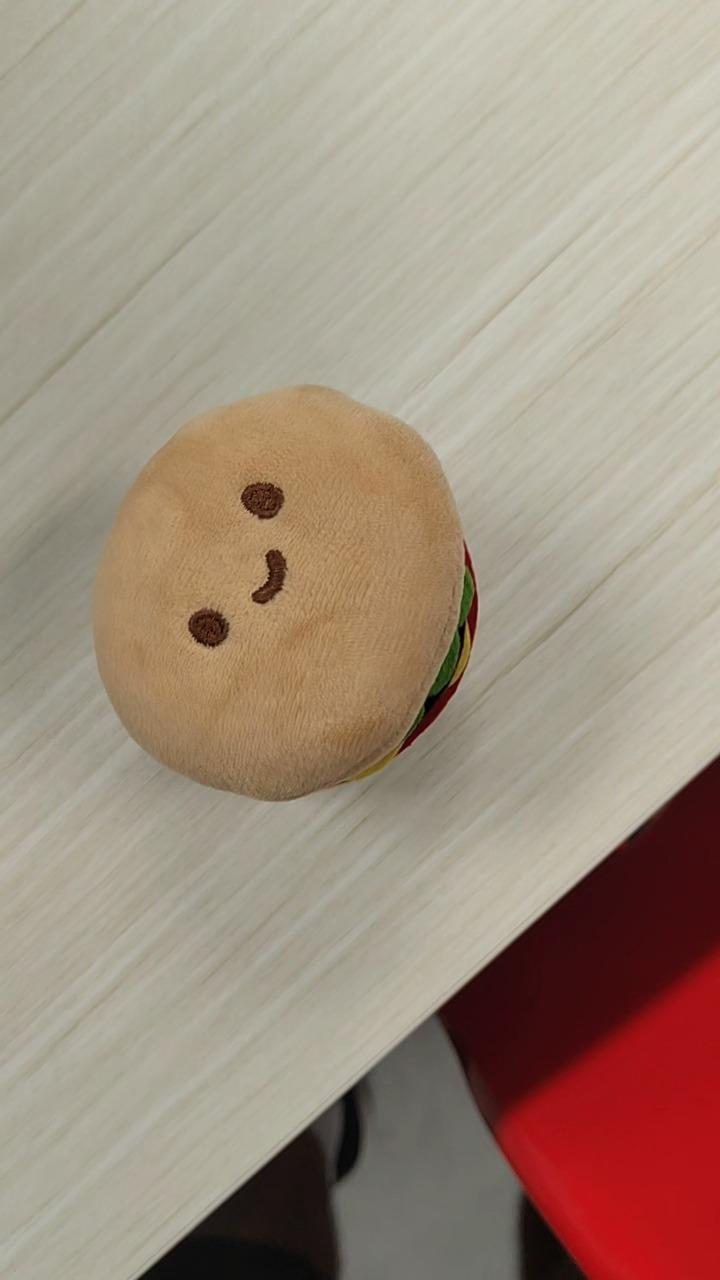hamburger: (90, 381, 479, 803)
